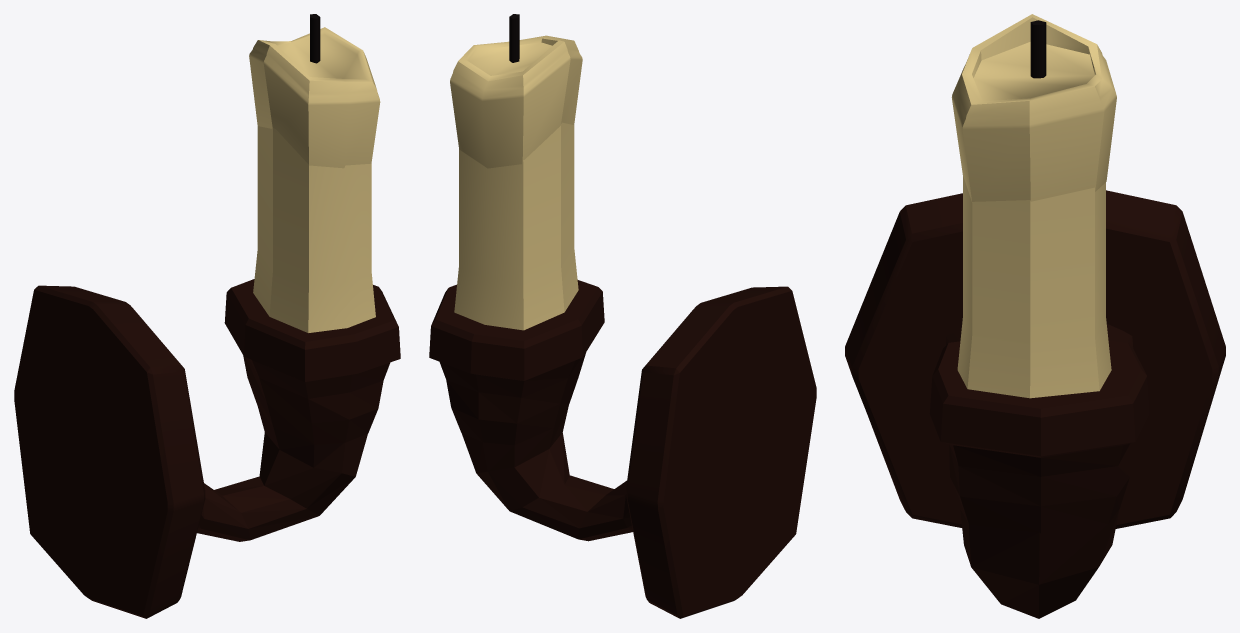
File: WALL MOUNTED CANDLE.FBX
3 views of the same model, side by side, from view 1: azimuth 30°, elevation 25°; view 2: azimuth 150°, elevation 25°; view 3: azimuth 270°, elevation 25° (orthographic). The views are drawn at different scales.
Visible parts, largest first — view 1: CANDLE BASE, CANDLE RIGHT, RIGHT, WICK; view 2: CANDLE BASE, CANDLE RIGHT, RIGHT, WICK; view 3: CANDLE RIGHT, CANDLE BASE, RIGHT, WICK.
Boxes of the visible parts, bbox=[...] form: CANDLE BASE: bbox=[14, 285, 205, 618]; CANDLE RIGHT: bbox=[249, 27, 380, 332]; RIGHT: bbox=[197, 279, 400, 541]; WICK: bbox=[310, 14, 320, 63]; CANDLE BASE: bbox=[626, 286, 816, 618]; CANDLE RIGHT: bbox=[450, 35, 582, 330]; RIGHT: bbox=[429, 280, 632, 541]; WICK: bbox=[509, 14, 519, 62]; CANDLE RIGHT: bbox=[951, 14, 1116, 398]; CANDLE BASE: bbox=[845, 190, 1225, 528]; RIGHT: bbox=[929, 324, 1149, 618]; WICK: bbox=[1030, 20, 1046, 78].
Bounding box in the file's own units: 65.65 × 112 × 60.18.
